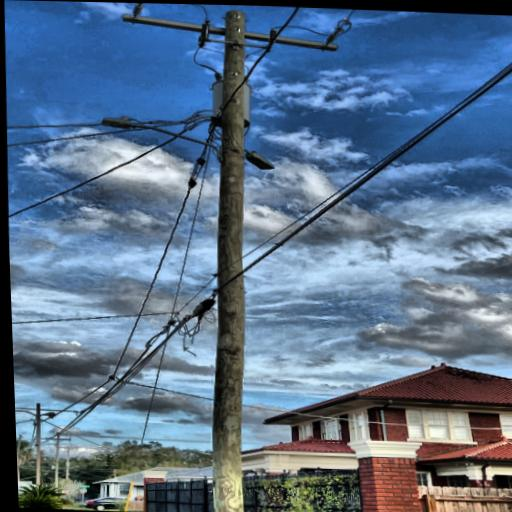pole: (182, 4, 271, 512)
street light: (99, 117, 227, 163)
transformer: (207, 78, 253, 132)
